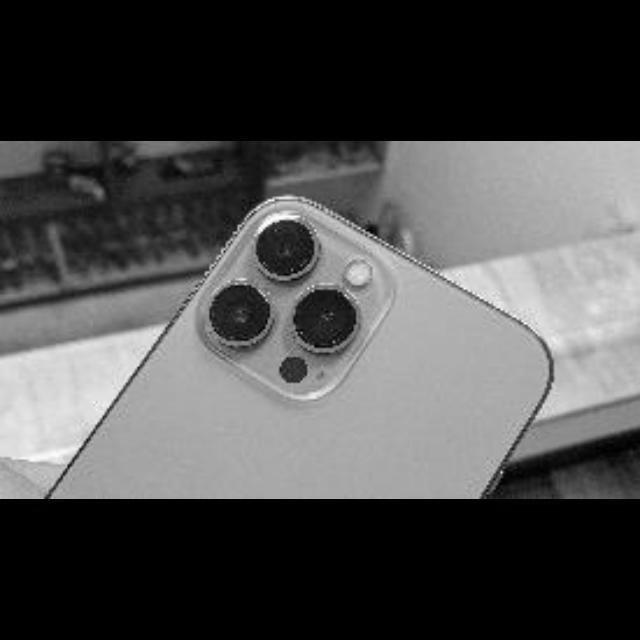fake: (0, 144, 595, 512)
